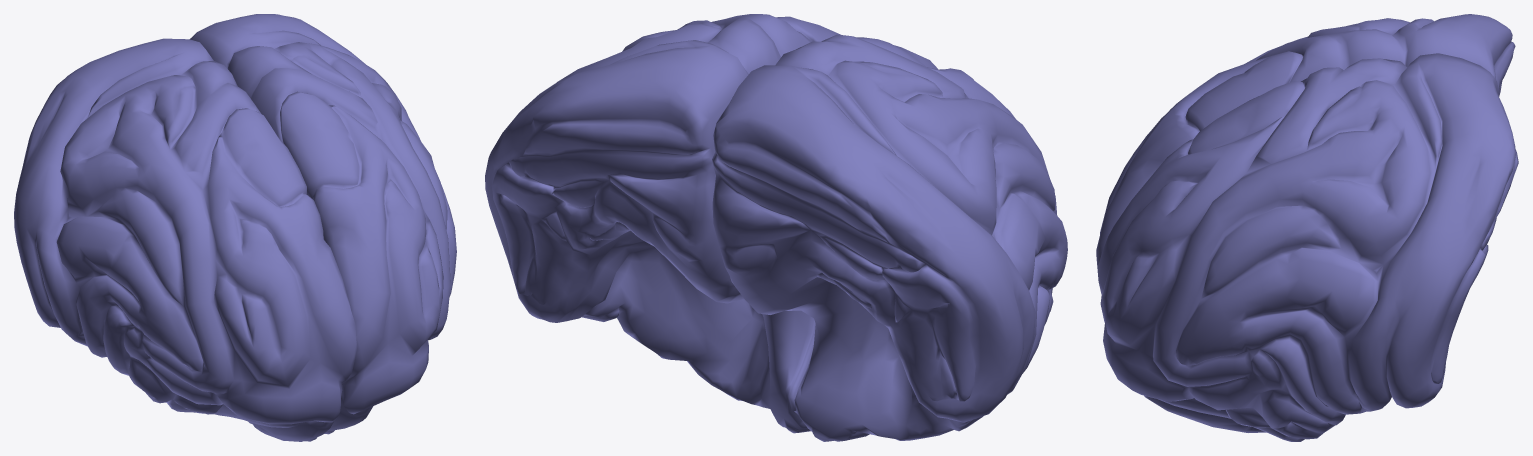
Rendered from Frontal Lobe_Trans.gltf.
3 renders of one model, left to right at view 1: azimuth 30°, elevation 25°; view 2: azimuth 150°, elevation 25°; view 3: azimuth 270°, elevation 25°, orthographic. The views are drawn at different scales.
Parts seen in each view (by area): view 1: Frontal_Lobe_Right, Frontal_Lobe_Left; view 2: Frontal_Lobe_Right, Frontal_Lobe_Left; view 3: Frontal_Lobe_Left, Frontal_Lobe_Right.
Boxes of the visible parts, x1,y1,x2,y2 form: Frontal_Lobe_Right: [14, 38, 357, 441]; Frontal_Lobe_Left: [190, 14, 456, 434]; Frontal_Lobe_Right: [712, 34, 1067, 441]; Frontal_Lobe_Left: [485, 14, 840, 433]; Frontal_Lobe_Left: [1098, 53, 1518, 441]; Frontal_Lobe_Right: [1096, 14, 1515, 322].
Size of the model in its own units: 12.04 by 9.82 by 9.85.
